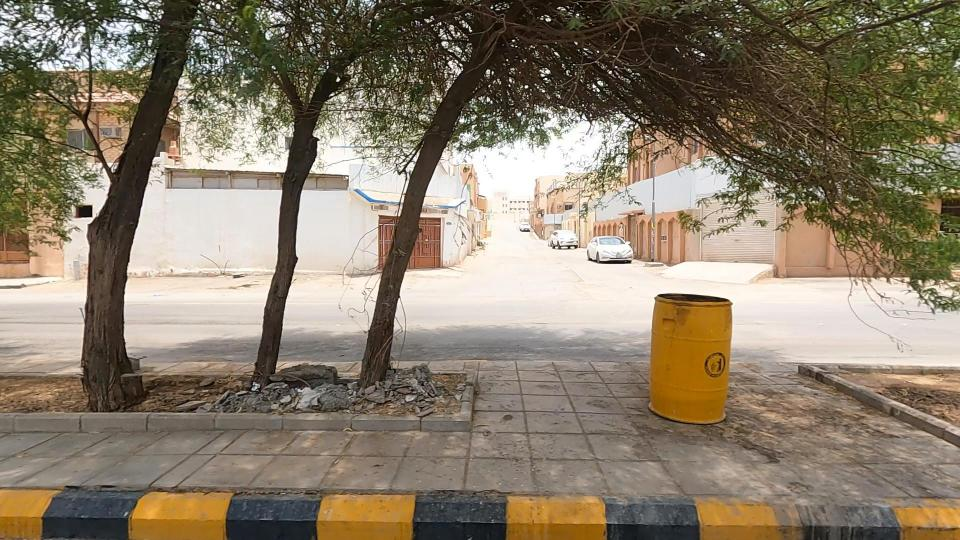GARBAGE: (201, 327, 398, 445), (340, 331, 486, 441), (135, 351, 274, 433)
